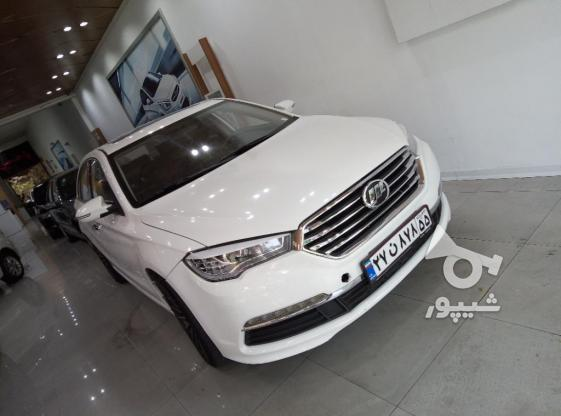car: (362, 200, 434, 290)
